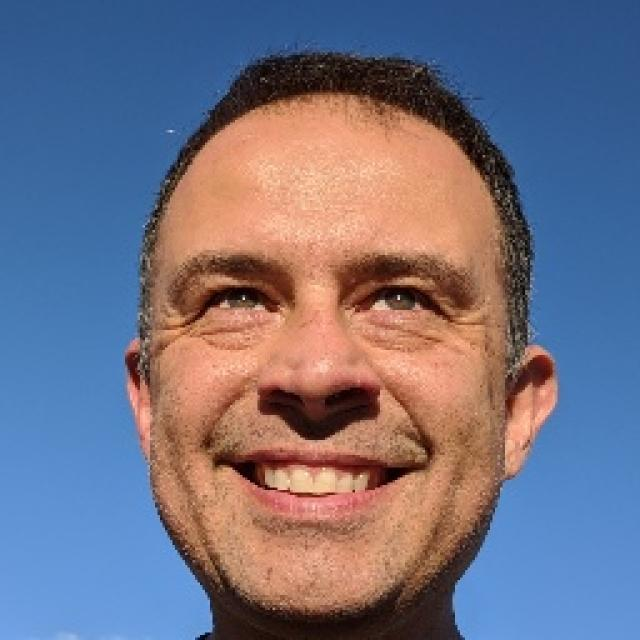earlobe: (496, 343, 560, 481), (123, 338, 150, 459)
